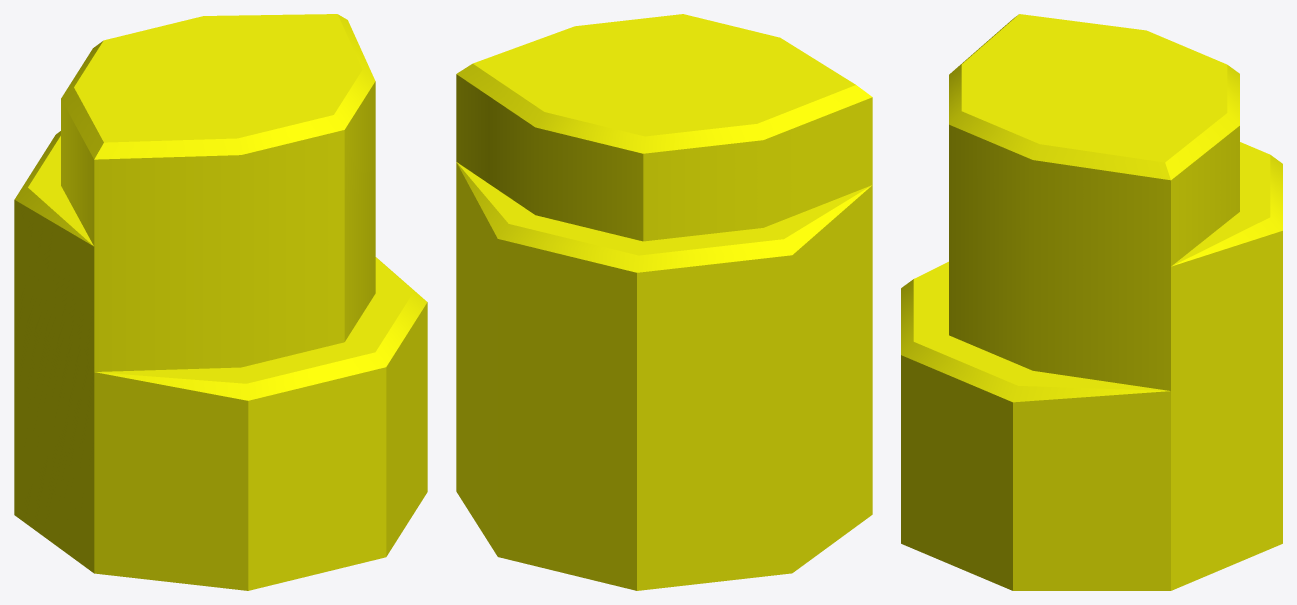
File: kaykit-rock-1-h-color-1.glb
The picture shows the model from 3 angles, left to right: view 1: azimuth 30°, elevation 25°; view 2: azimuth 150°, elevation 25°; view 3: azimuth 270°, elevation 25°; orthographic projection.
Visible parts, largest first — view 1: Rock_1_H_Color1; view 2: Rock_1_H_Color1; view 3: Rock_1_H_Color1.
Part boxes in pixels (bbox=[...]): Rock_1_H_Color1: bbox=[14, 14, 427, 590]; Rock_1_H_Color1: bbox=[456, 14, 872, 590]; Rock_1_H_Color1: bbox=[901, 14, 1282, 590].
Bounding box in the file's own units: 1.53 × 1.87 × 1.53.
